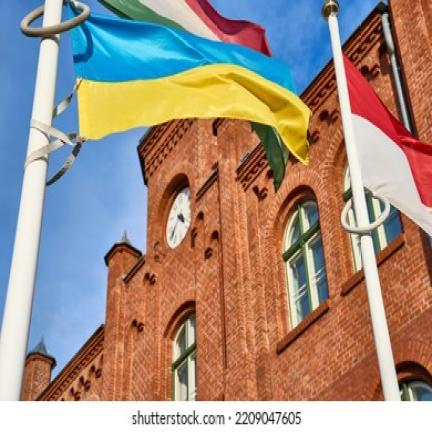besi_tidak_karat: (0, 0, 89, 401), (323, 0, 400, 401)
